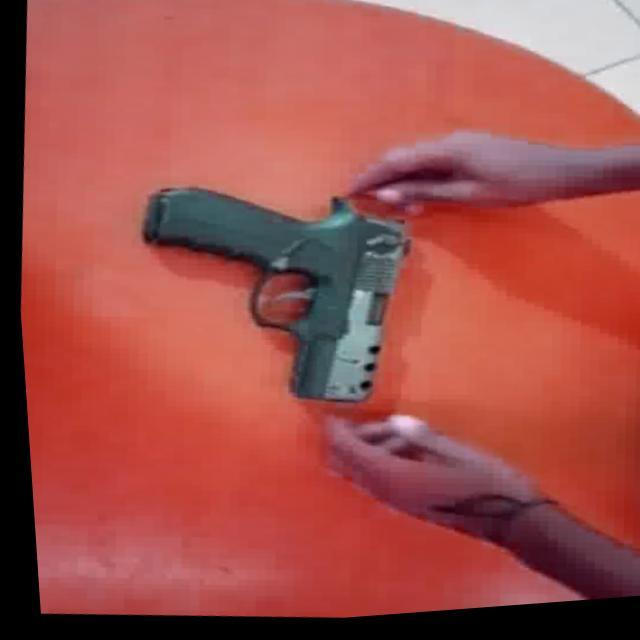weapon: (120, 170, 422, 426)
